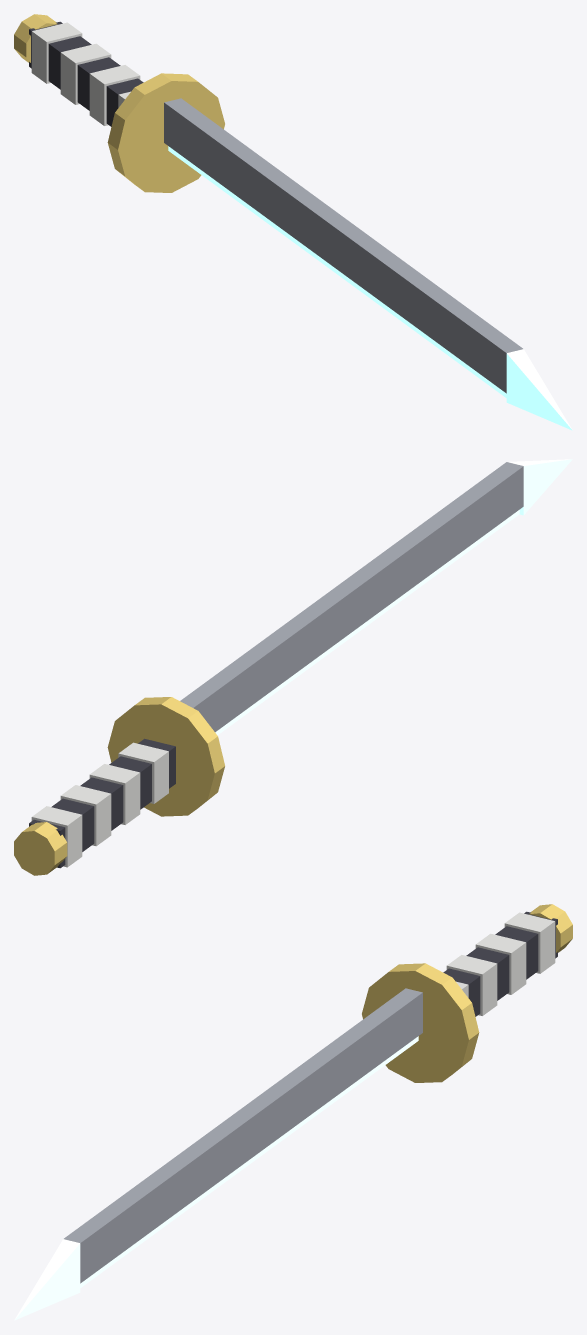
The model's file is HeroSword.fbx.
The picture shows the model from 3 angles, top to bottom: view 1: azimuth 30°, elevation 25°; view 2: azimuth 150°, elevation 25°; view 3: azimuth 330°, elevation 25°; orthographic projection.
Parts seen in each view (by area): view 1: HeroSword; view 2: HeroSword; view 3: HeroSword.
Boxes of the visible parts, bbox=[...] form: HeroSword: bbox=[14, 14, 572, 430]; HeroSword: bbox=[14, 459, 572, 875]; HeroSword: bbox=[14, 904, 572, 1320].
Bounding box in the file's own units: 0.15 × 0.15 × 1.3.
